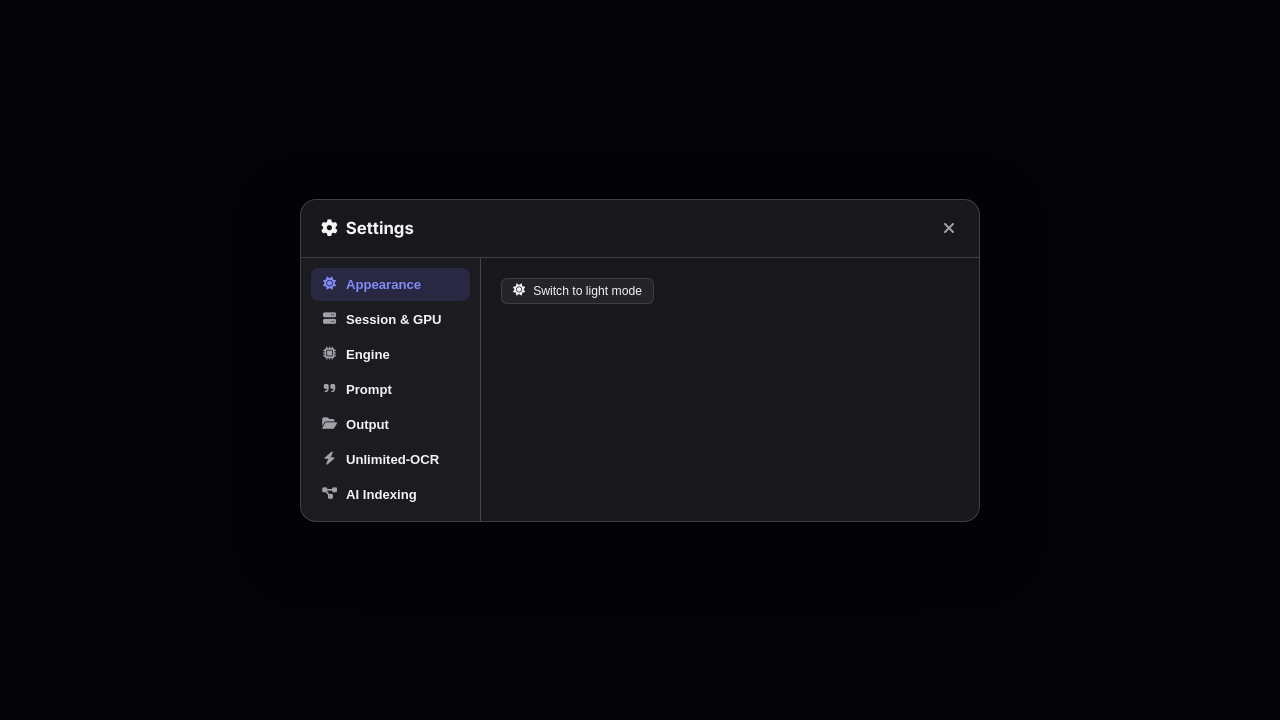
Test: SettingsModal — categorized nav (Adobe-style preferences layout) › clicking a nav category swaps the visible panel — only the active category's fields are in the DOM
The image size is (1280, 720).
Expected: the button with test id "theme-toggle-btn" is shown, [501,278,654,304]
Click the button with test id "settings-nav-engine": (390, 354) [311,338,470,370]
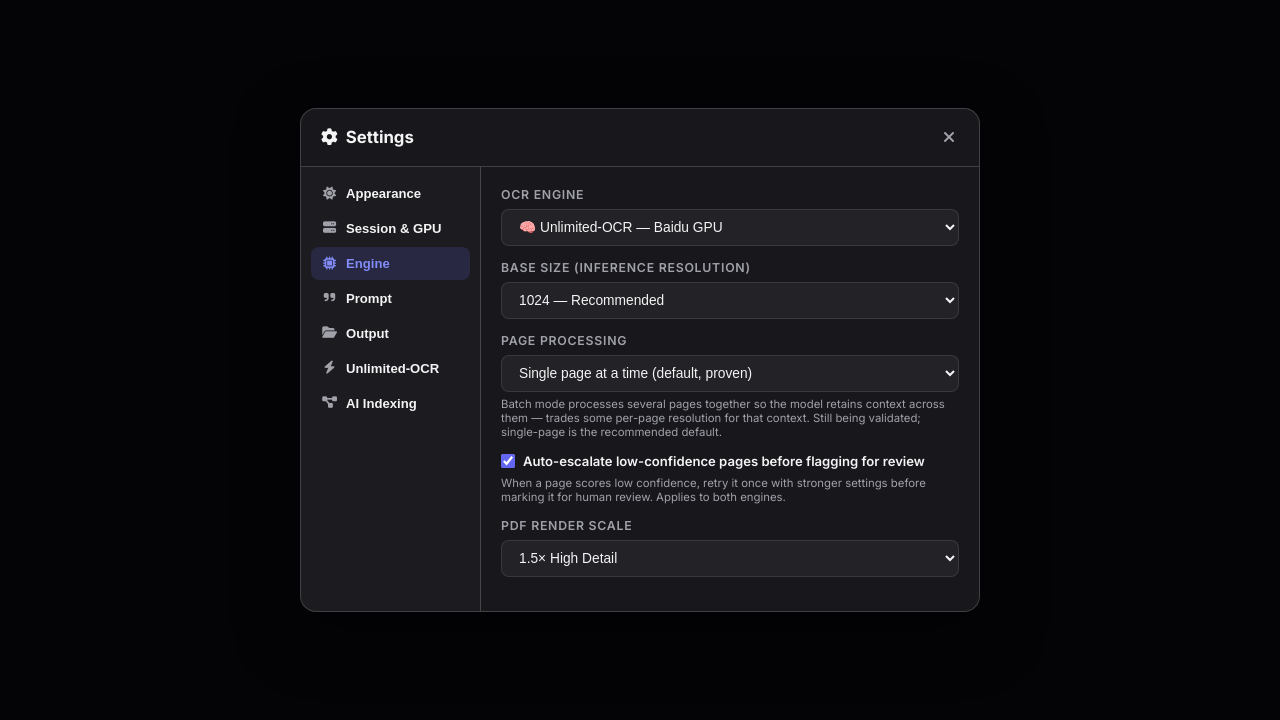
Now the dropdown with test id "engine-select" is shown, box [501,209,959,246]
Now the button with test id "theme-toggle-btn" is gone
